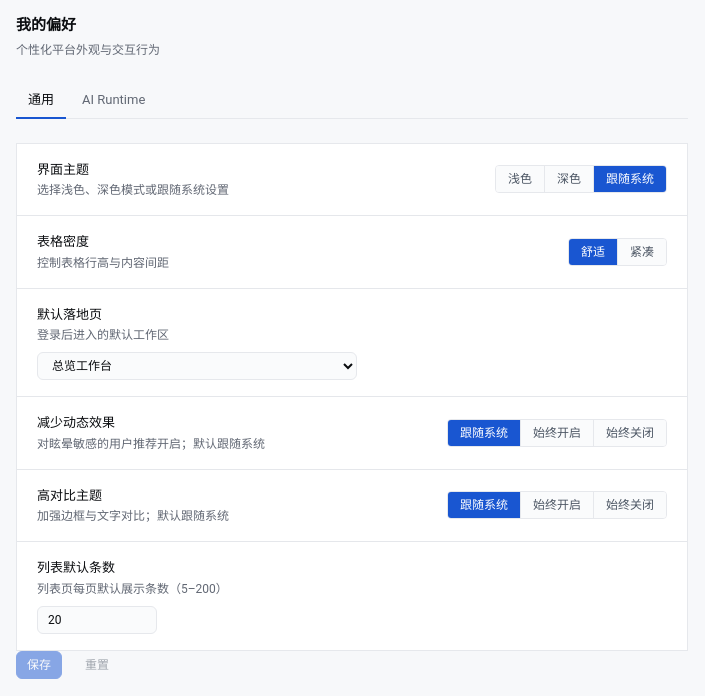
Settings page › enables 保存 after changing theme
Switch from 'system' to 'dark'
Click the button "深色". click: click(570, 179)
box: top-left (545, 166), bottom-right (594, 192)
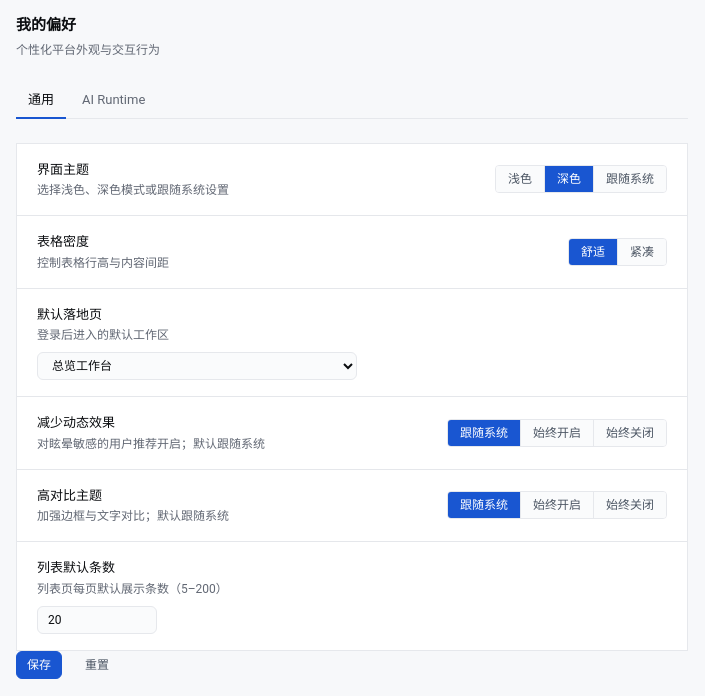
Expected: the button with aria-label "保存偏好" is enabled, top-left (16, 650), bottom-right (62, 678)
